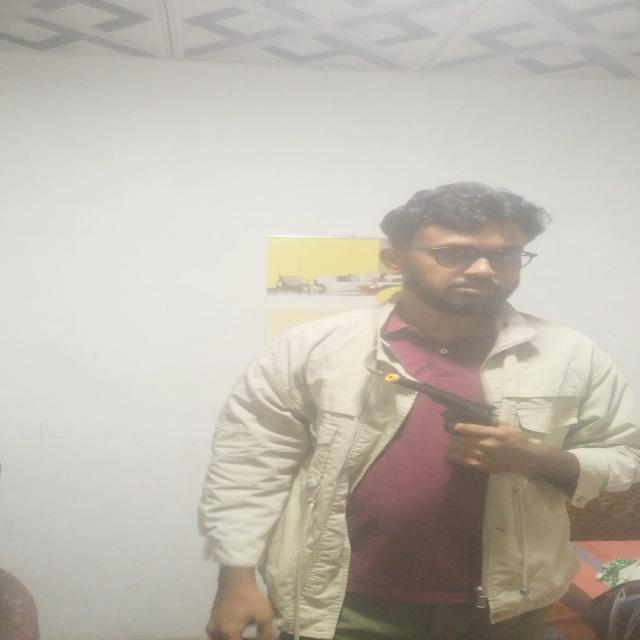Gun_Holder: (363, 369, 529, 465)
Jacket_Wearer: (188, 310, 640, 602)
Person: (186, 181, 640, 640)
